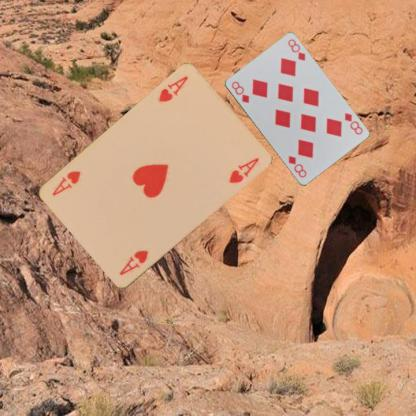8d: (342, 110, 364, 136), (229, 78, 250, 104)
Ah: (156, 73, 190, 104), (116, 248, 150, 277)
